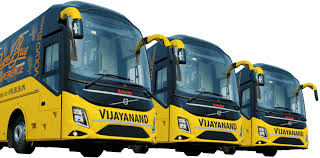bus: (1, 1, 173, 157), (143, 1, 257, 158), (232, 1, 319, 158)
